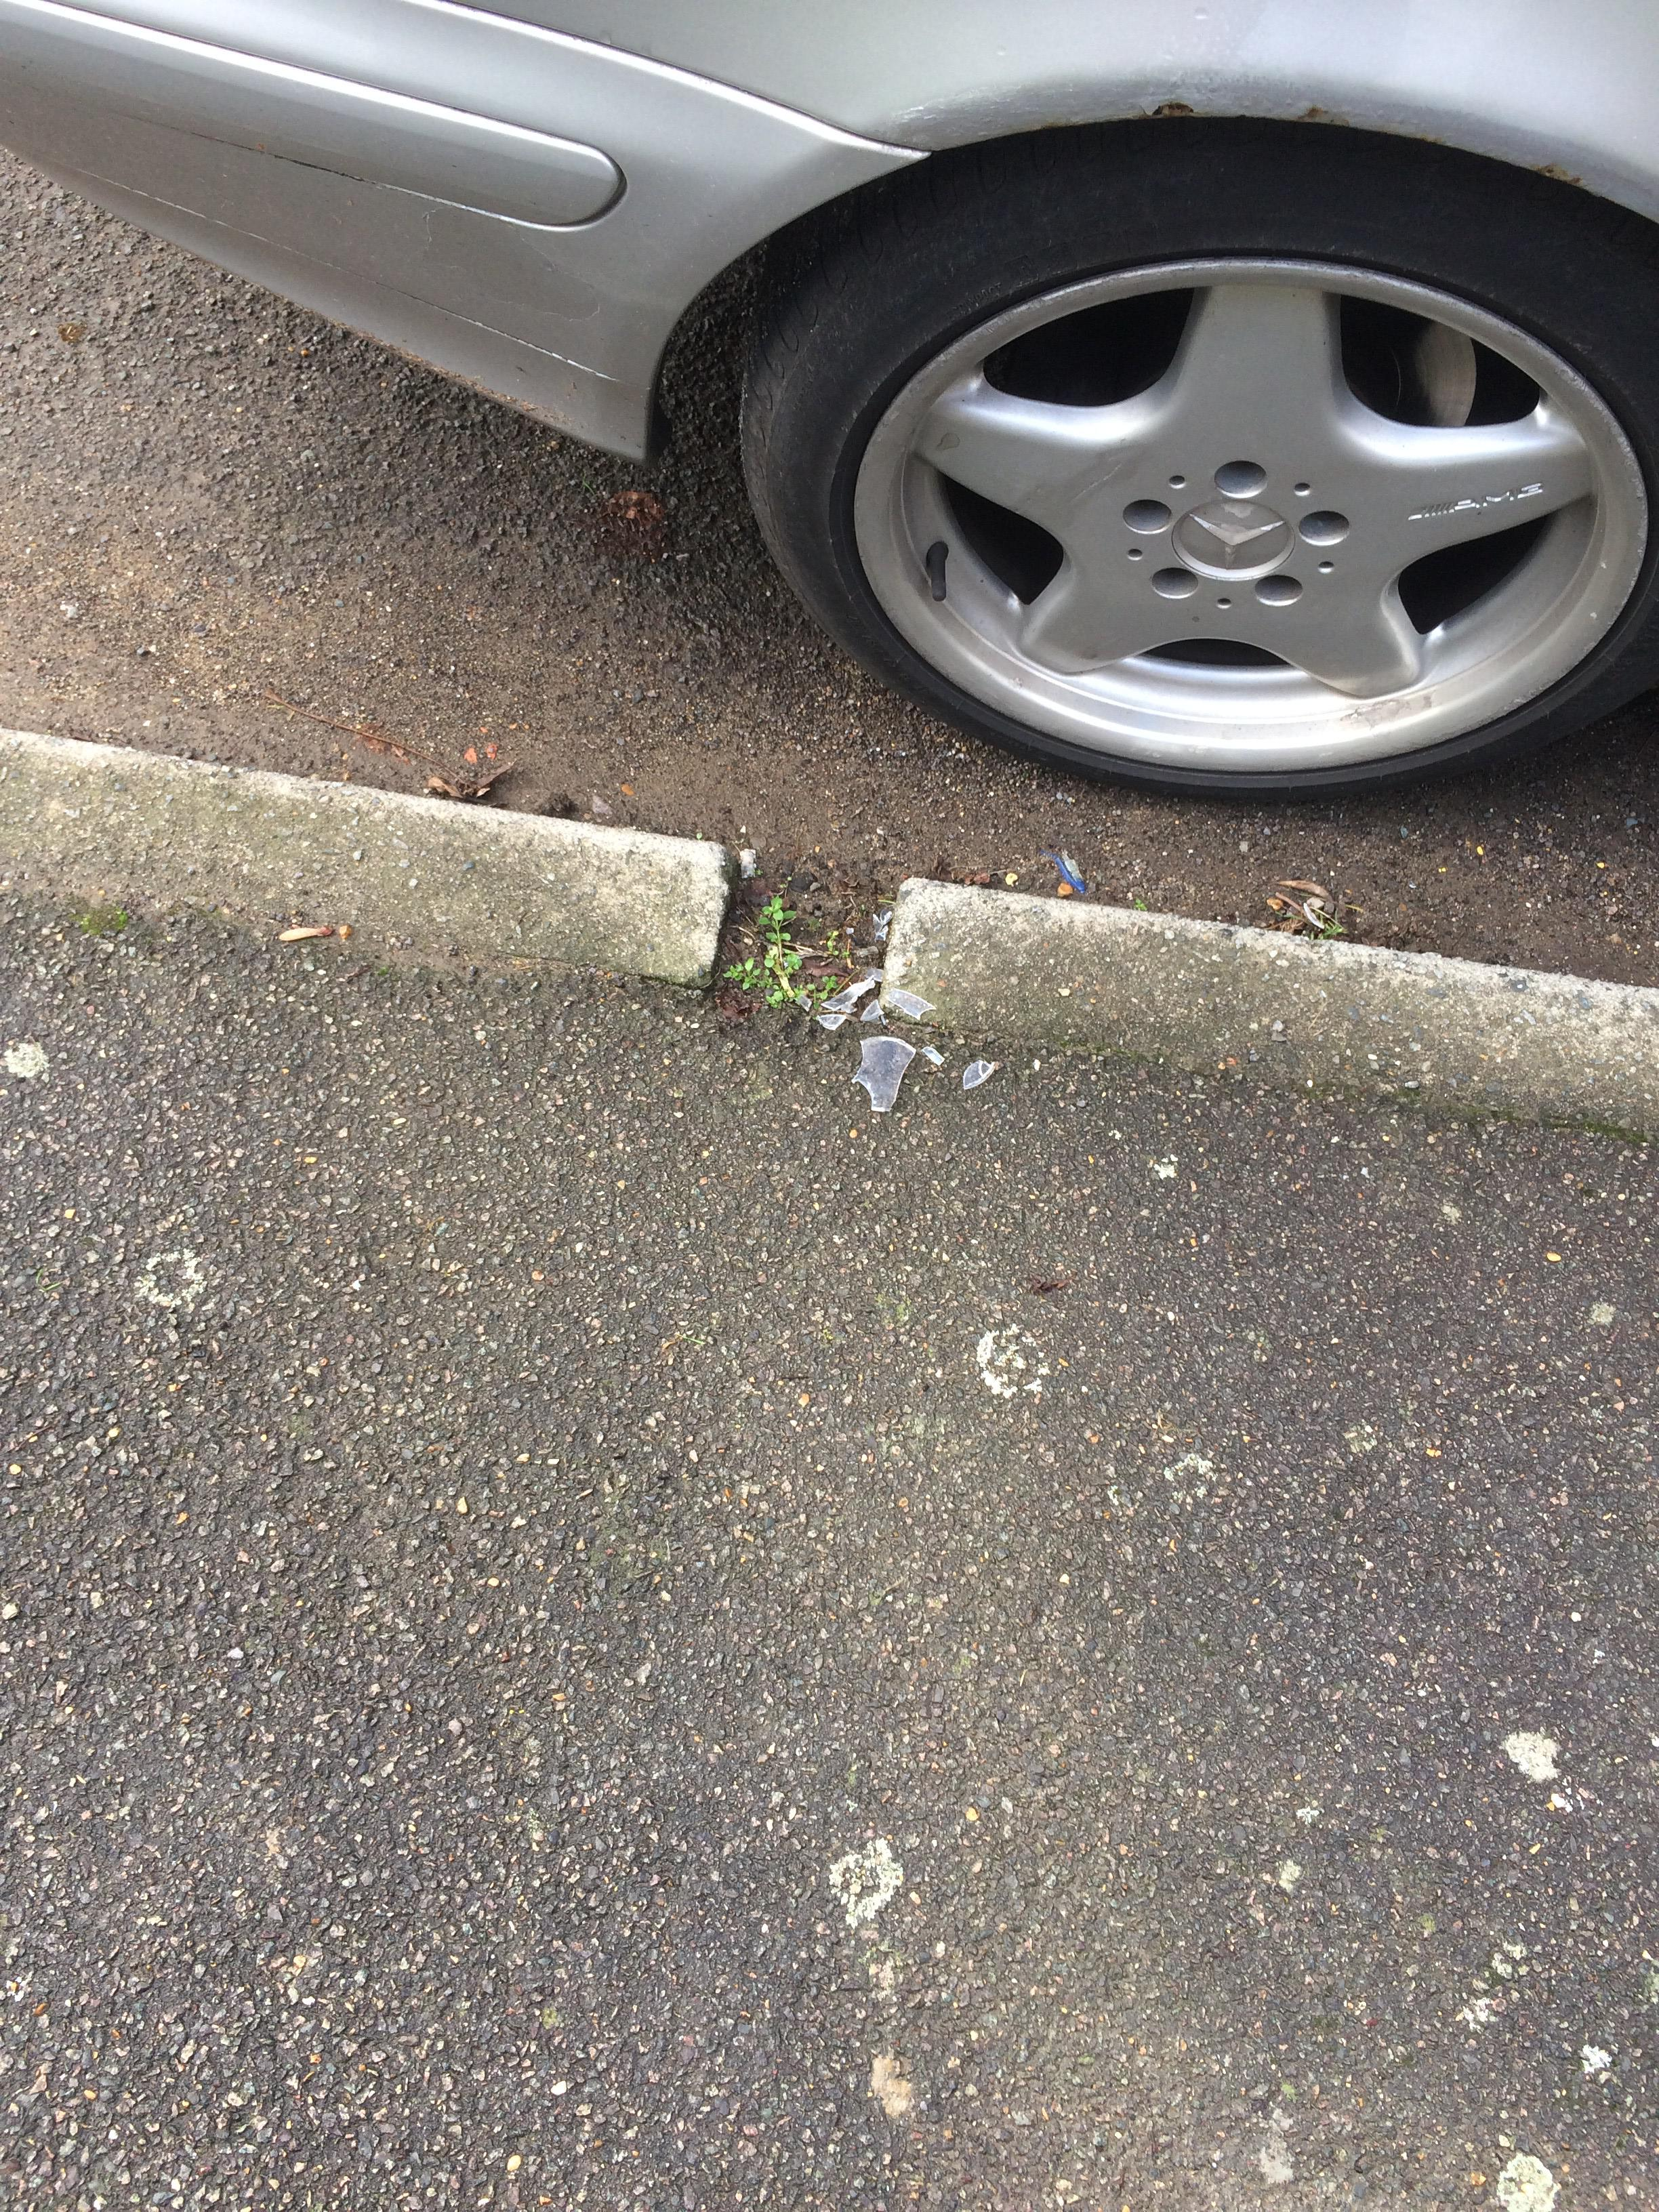Trash: (817, 965, 934, 1118)
